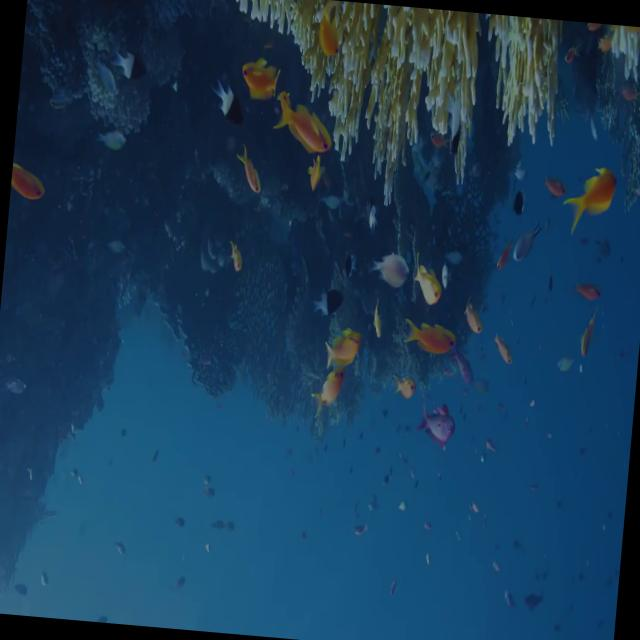fish: (556, 150, 624, 246), (271, 85, 339, 162), (232, 46, 288, 117), (410, 397, 460, 467), (398, 309, 462, 363), (403, 248, 451, 310), (228, 135, 266, 209), (319, 319, 367, 377), (300, 278, 351, 332), (8, 153, 52, 213), (207, 74, 251, 134), (307, 368, 347, 433), (507, 210, 544, 276), (364, 243, 412, 293), (103, 39, 147, 93), (298, 148, 330, 203), (92, 122, 130, 168), (460, 296, 489, 344), (490, 326, 520, 372), (389, 369, 423, 408), (572, 318, 598, 369), (223, 230, 246, 284), (540, 168, 572, 206), (568, 270, 604, 302), (336, 248, 364, 286), (522, 586, 548, 618)
